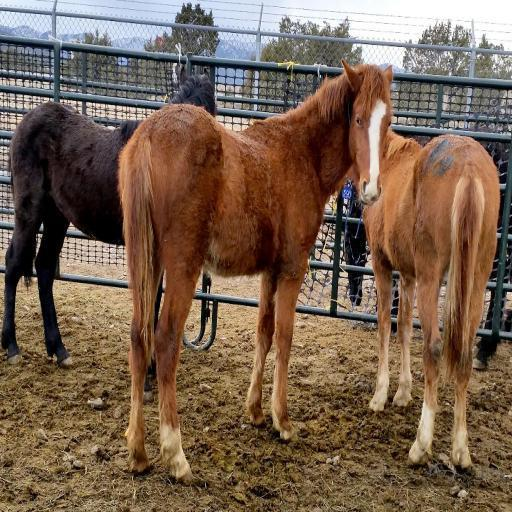horse: (118, 59, 394, 484), (0, 62, 218, 408), (362, 126, 500, 473)
